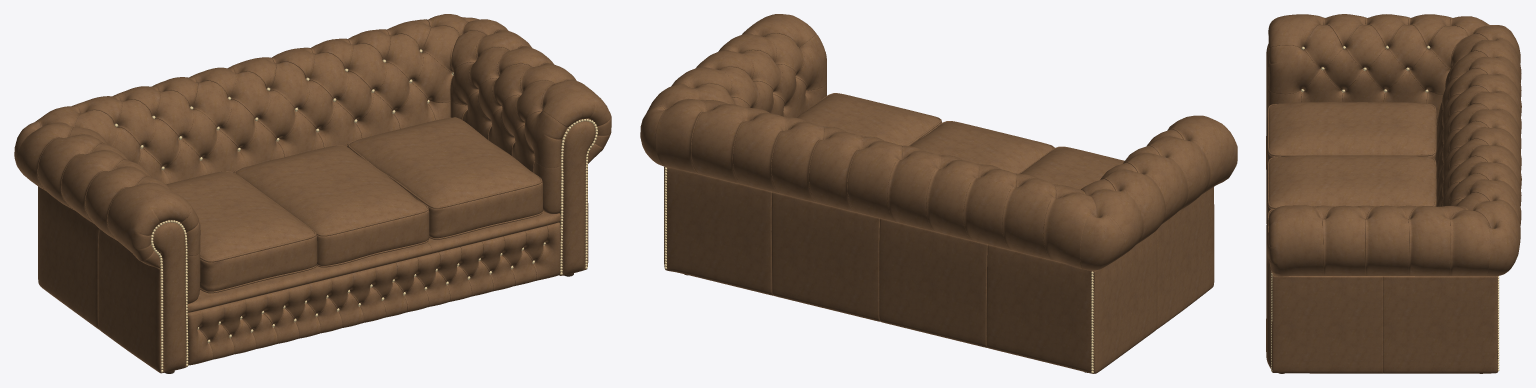
File: leather.glb
3 renders of one model, left to right at view 1: azimuth 30°, elevation 25°; view 2: azimuth 150°, elevation 25°; view 3: azimuth 270°, elevation 25°, orthographic. The views are drawn at different scales.
Parts seen in each view (by area): view 1: polySurface2, Metal; view 2: polySurface2, Metal; view 3: polySurface2, Metal.
Part boxes in pixels (x1,y1,x2,y2): polySurface2: (14, 14, 611, 373); Metal: (114, 49, 597, 372); polySurface2: (640, 14, 1237, 373); Metal: (664, 167, 1093, 373); polySurface2: (1266, 14, 1521, 373); Metal: (1271, 45, 1499, 371).
Size of the model in its own units: 1.88 by 0.6652 by 0.915.
Materials: 3 (2 with a texture image).
